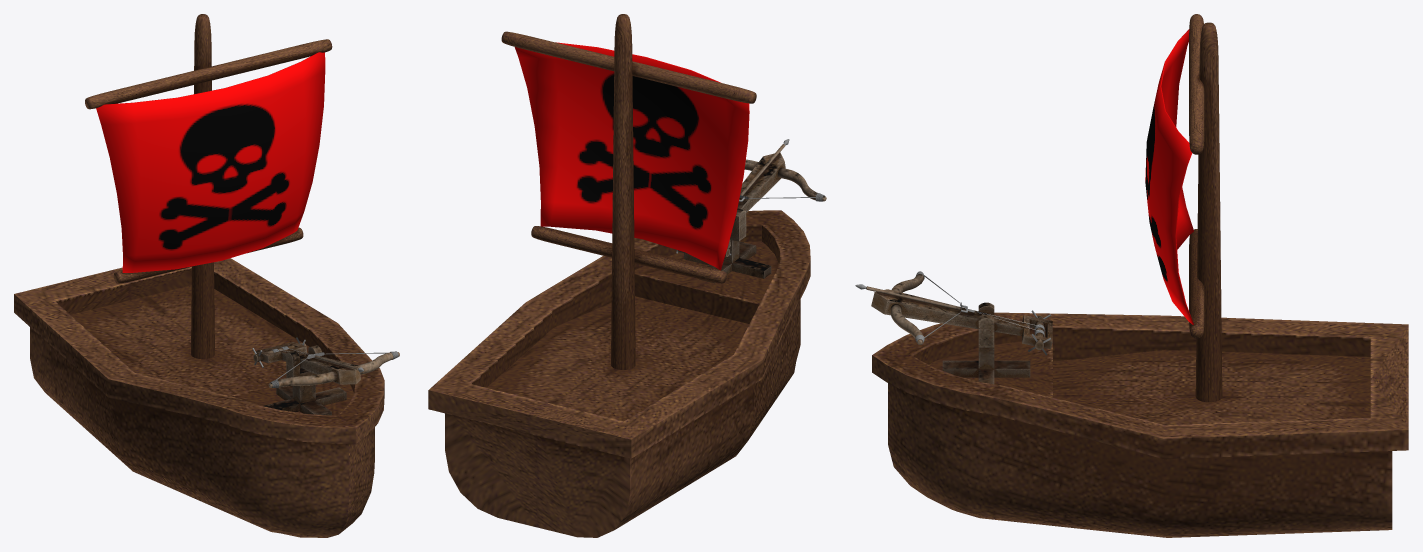
The model's file is Enemy_ArcharShip_01.fbx.
3 renders of one model, left to right at view 1: azimuth 30°, elevation 25°; view 2: azimuth 150°, elevation 25°; view 3: azimuth 270°, elevation 25°, orthographic. The views are drawn at different scales.
Visible parts, largest first — view 1: Enemy_ArcharShip_01; view 2: Enemy_ArcharShip_01; view 3: Enemy_ArcharShip_01.
Part boxes in pixels (x1,y1,x2,y2): Enemy_ArcharShip_01: (14,14,399,537); Enemy_ArcharShip_01: (428,14,826,537); Enemy_ArcharShip_01: (855,14,1408,537).
Size of the model in its own units: 539 by 926 by 970.
